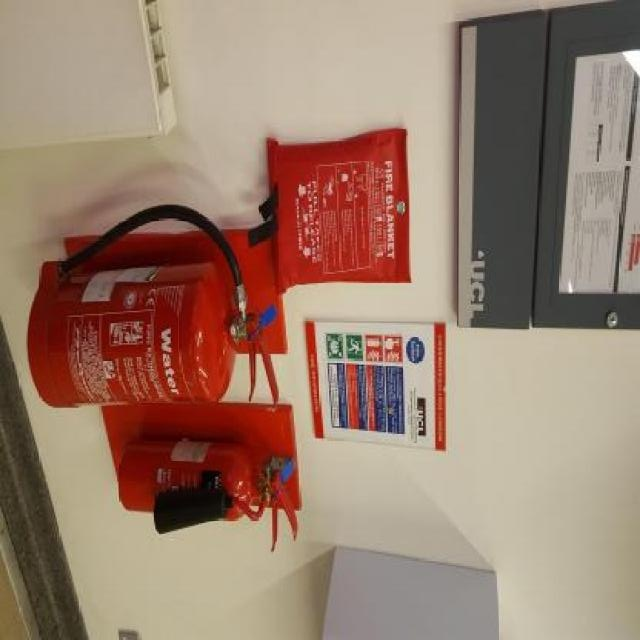fire extinguisher: (26, 200, 280, 408), (117, 436, 298, 547)
